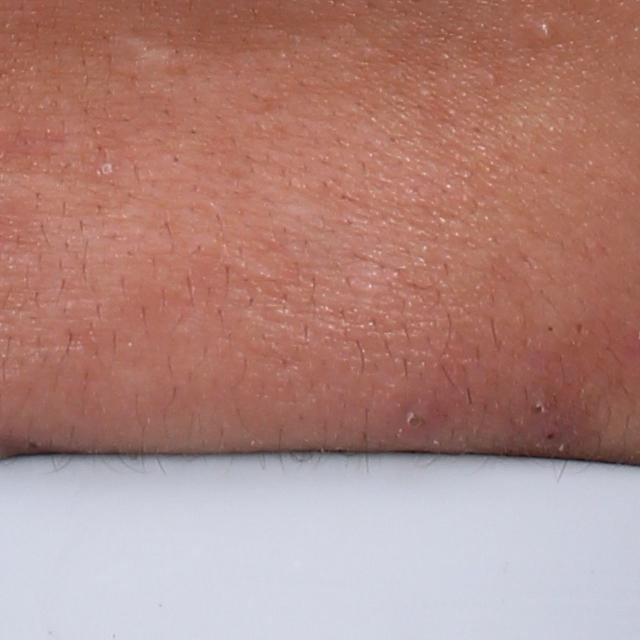comedo: (404, 407, 427, 428), (529, 400, 551, 417)
hypertrophic_scar: (124, 42, 182, 98)
